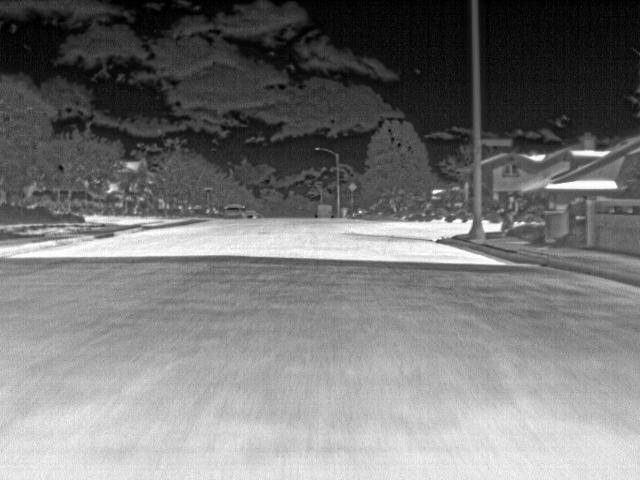car: (568, 194, 589, 216), (314, 202, 334, 218), (224, 204, 244, 218), (246, 207, 261, 218)
person: (506, 195, 518, 217)
